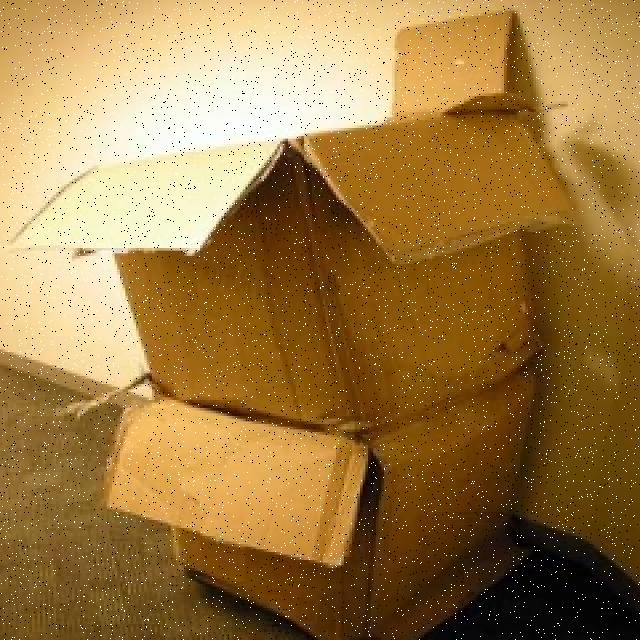box: (110, 41, 528, 420), (127, 367, 523, 634)
